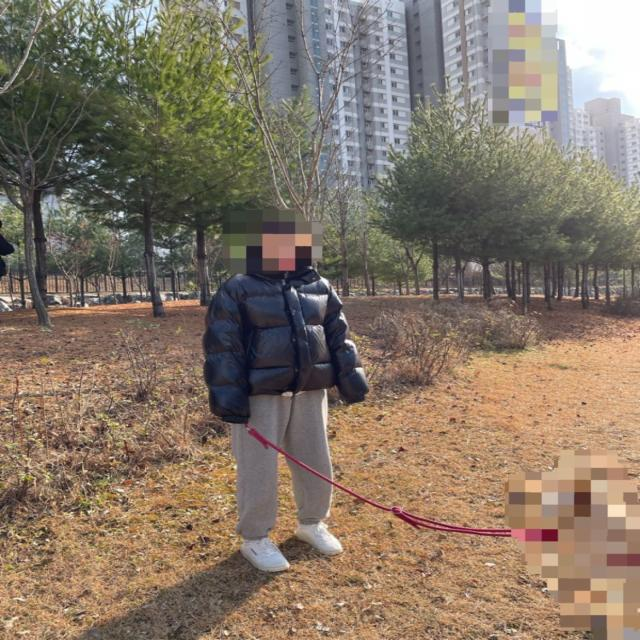padding: (204, 263, 376, 424)
trainingpants: (233, 385, 335, 538)
